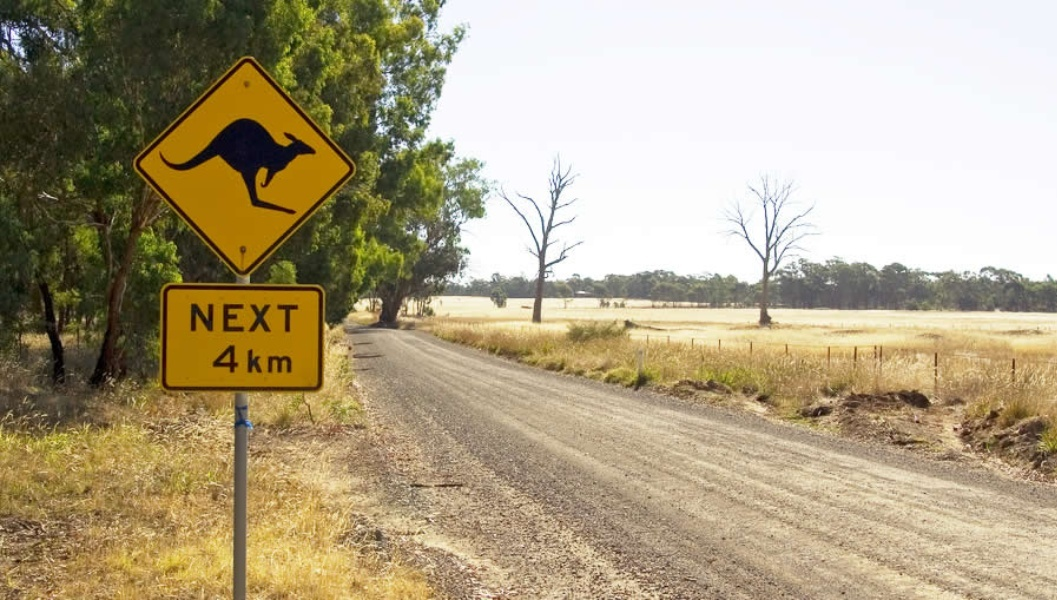text: (225, 342, 240, 375), (241, 342, 256, 375), (257, 342, 272, 375), (273, 342, 288, 375), (193, 302, 208, 333), (209, 302, 224, 333), (225, 302, 240, 333), (241, 302, 256, 333), (257, 302, 272, 333), (273, 302, 288, 333), (213, 342, 224, 375), (289, 302, 299, 333), (289, 342, 293, 375), (190, 302, 192, 333)
